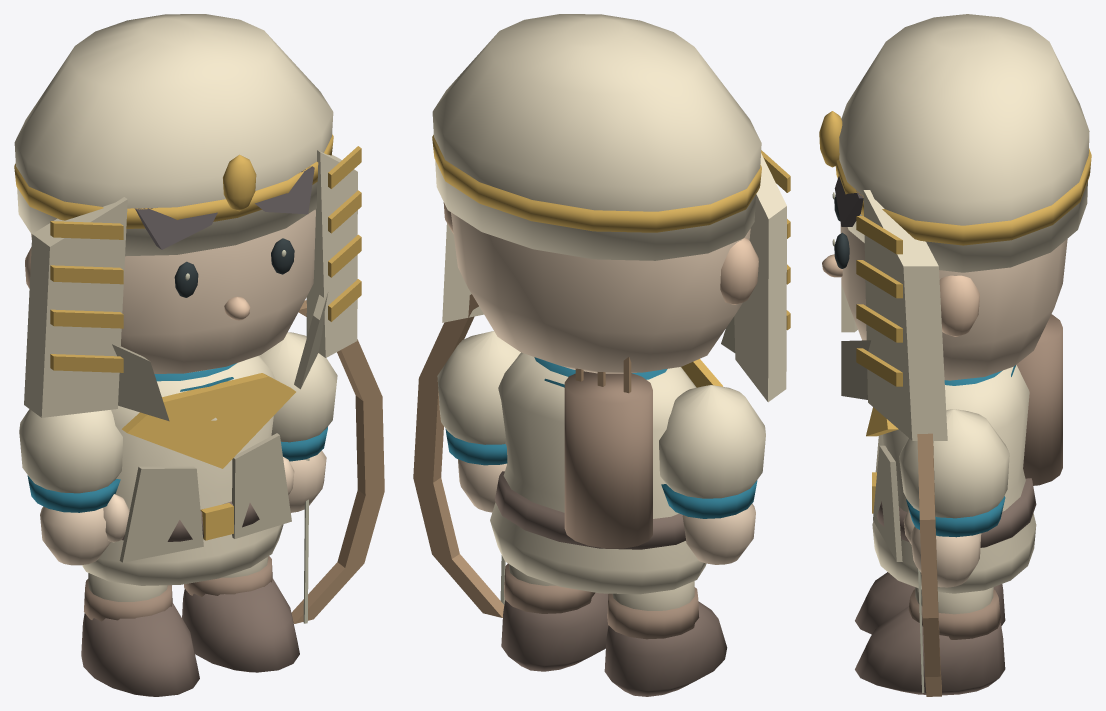
File: archer.glb
3 views of the same model, side by side, from view 1: azimuth 30°, elevation 25°; view 2: azimuth 150°, elevation 25°; view 3: azimuth 270°, elevation 25° (orthographic). The views are drawn at different scales.
Visible parts, largest first — view 1: Striped nemes crown, Soft cheek head, Nemes shoulder wing, Short folded tunic, Broad gold collar, Round leather boot, Round leather boot.001, Curved bow, Puff sleeve, Coat fold, Nemes shoulder wing.001, Puff sleeve.001 (+29 smaller); view 2: Striped nemes crown, Soft cheek head, Short folded tunic, Quiver leather, Puff sleeve, Nemes shoulder wing, Curved bow, Nemes front band, Round leather boot, Puff sleeve.001, Round leather boot.001, Broad leather belt (+10 smaller); view 3: Striped nemes crown, Nemes shoulder wing.001, Soft cheek head, Short folded tunic, Puff sleeve.001, Round leather boot.001, Quiver leather, Nemes front band, Curved bow, Little mitten.001, Round leather boot, Coat fold.001 (+15 smaller).
Boxes of the visible parts, bbox=[...] form: Striped nemes crown: bbox=[14, 14, 333, 256]; Soft cheek head: bbox=[31, 209, 315, 373]; Nemes shoulder wing: bbox=[24, 197, 127, 417]; Short folded tunic: bbox=[82, 355, 283, 585]; Broad gold collar: bbox=[122, 373, 295, 468]; Round leather boot: bbox=[81, 602, 199, 696]; Round leather boot.001: bbox=[182, 578, 299, 672]; Curved bow: bbox=[291, 300, 384, 623]; Puff sleeve: bbox=[19, 409, 122, 493]; Coat fold: bbox=[119, 466, 203, 562]; Nemes shoulder wing.001: bbox=[306, 150, 357, 357]; Puff sleeve.001: bbox=[259, 332, 337, 442]; Striped nemes crown: bbox=[432, 14, 761, 260]; Soft cheek head: bbox=[451, 212, 750, 373]; Short folded tunic: bbox=[490, 352, 706, 594]; Quiver leather: bbox=[564, 371, 652, 548]; Puff sleeve: bbox=[659, 385, 765, 498]; Nemes shoulder wing: bbox=[734, 153, 786, 402]; Curved bow: bbox=[413, 294, 504, 617]; Nemes front band: bbox=[432, 135, 761, 232]; Round leather boot: bbox=[604, 601, 727, 696]; Puff sleeve.001: bbox=[437, 331, 520, 444]; Round leather boot.001: bbox=[501, 592, 608, 671]; Broad leather belt: bbox=[495, 471, 685, 549]; Striped nemes crown: bbox=[839, 14, 1089, 272]; Nemes shoulder wing.001: bbox=[863, 190, 947, 440]; Soft cheek head: bbox=[840, 224, 1067, 380]; Short folded tunic: bbox=[872, 365, 1036, 593]; Puff sleeve.001: bbox=[899, 409, 1009, 518]; Round leather boot.001: bbox=[855, 606, 1005, 695]; Quiver leather: bbox=[1016, 314, 1062, 485]; Nemes front band: bbox=[835, 148, 1091, 245]; Curved bow: bbox=[917, 433, 941, 696]; Little mitten.001: bbox=[910, 526, 981, 587]; Round leather boot: bbox=[855, 572, 1005, 634]; Coat fold.001: bbox=[873, 445, 902, 561].
Bounding box in the file's own units: 0.905 × 1.54 × 0.615.
